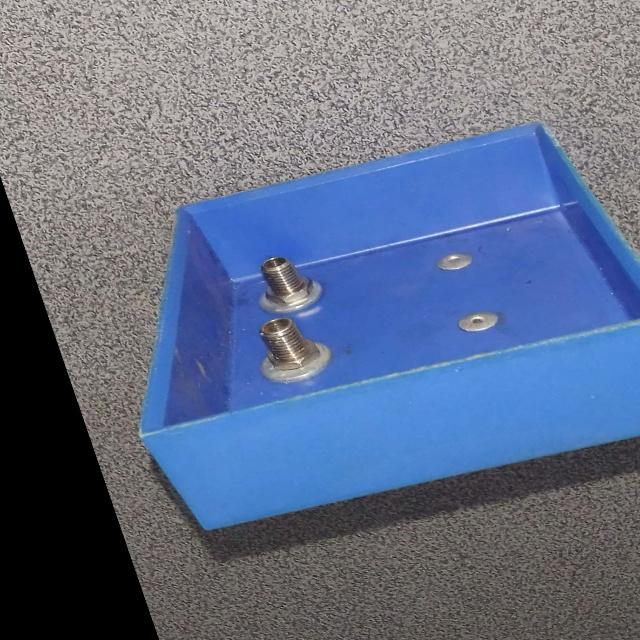L Switch: (33, 88, 640, 572)
